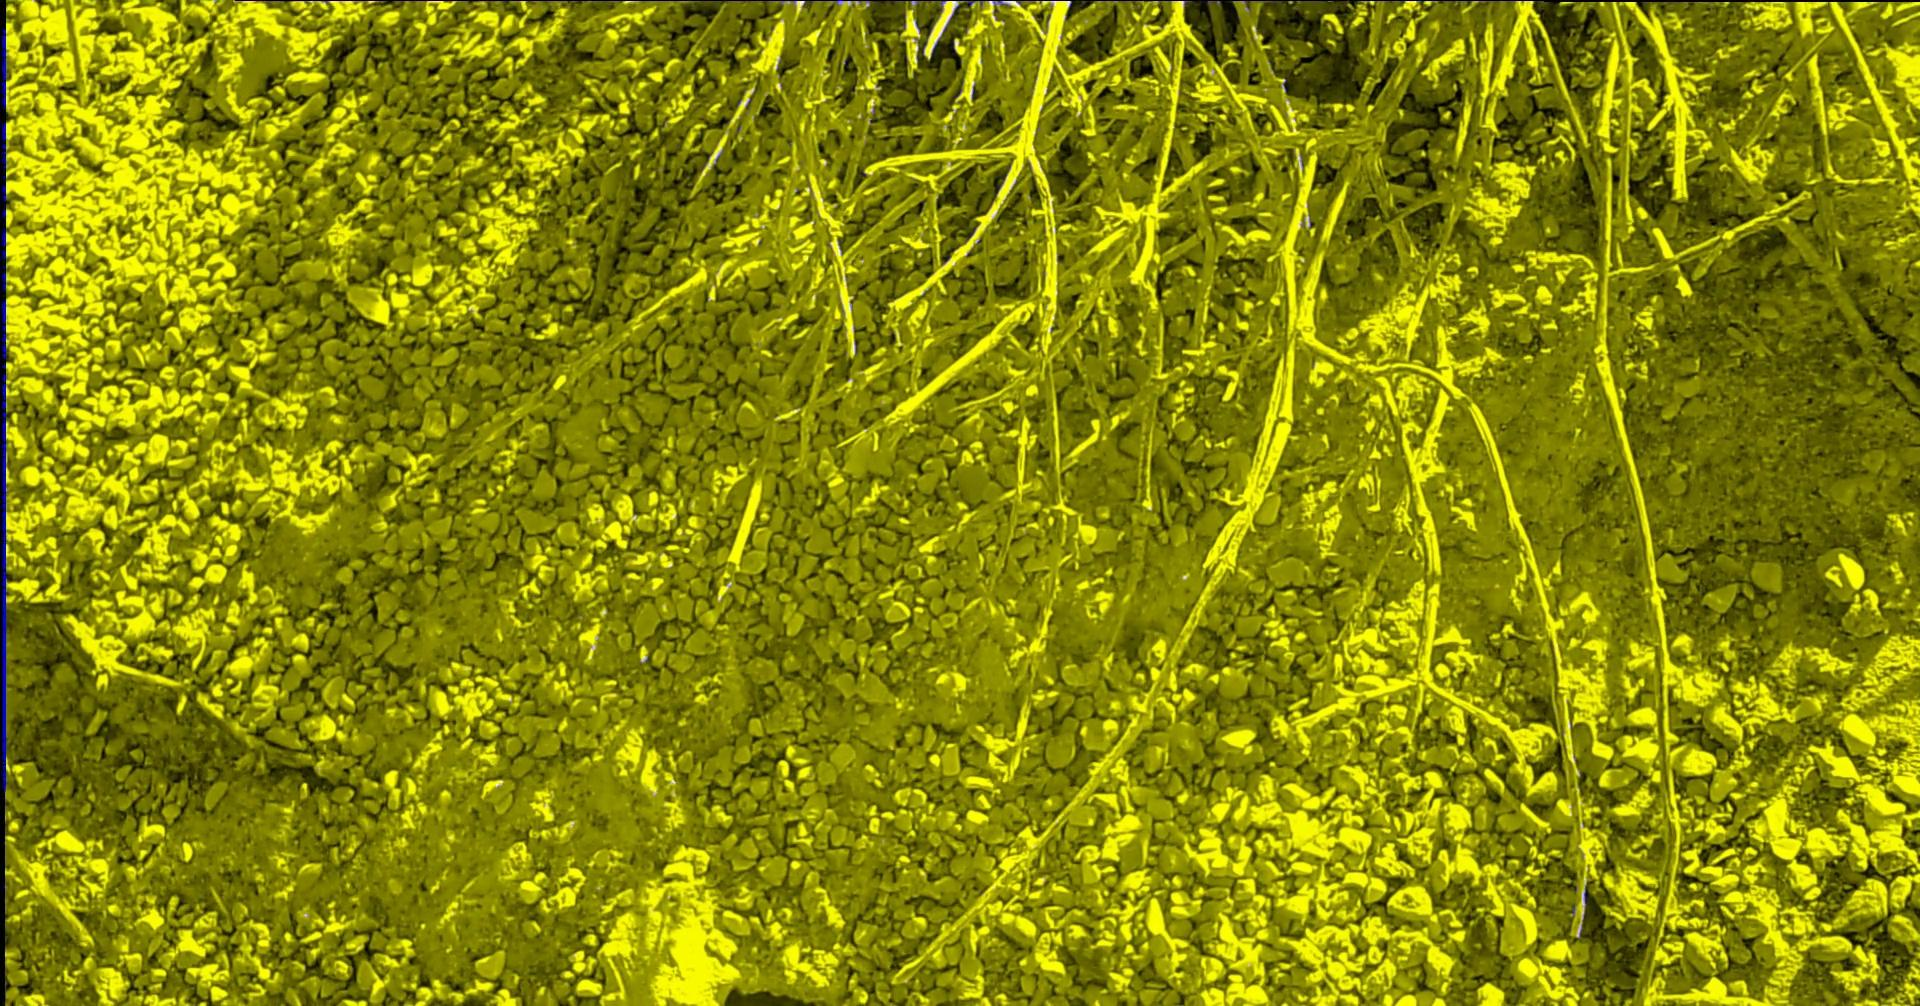ant: (1, 121, 8, 218), (1, 28, 9, 109), (1, 226, 8, 259), (1, 264, 8, 290)
